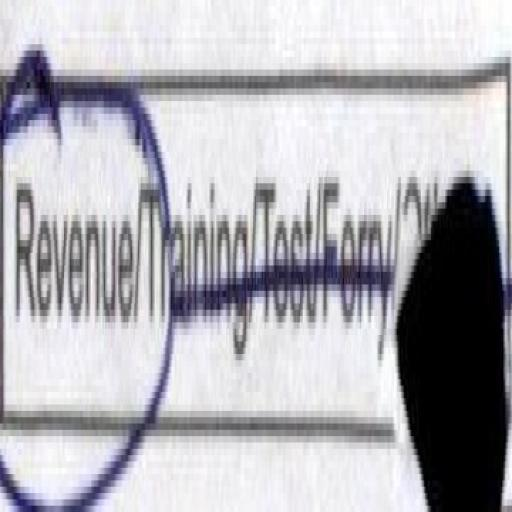check: (2, 22, 139, 512)
